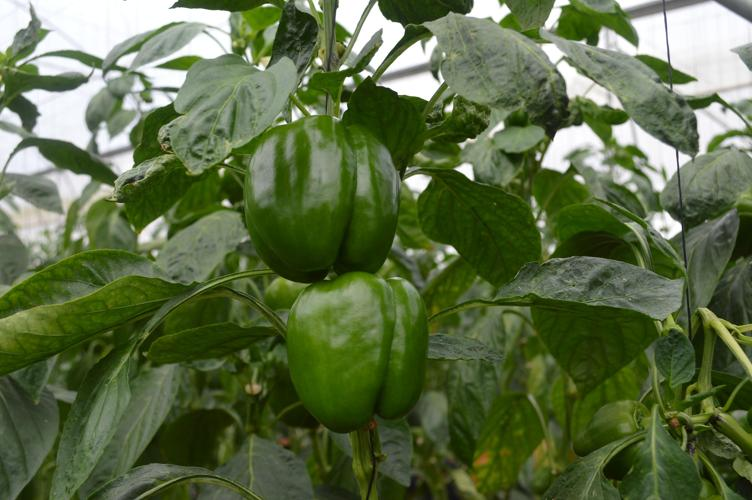BellPepper: (218, 99, 403, 277), (282, 268, 450, 427), (558, 381, 662, 481)
